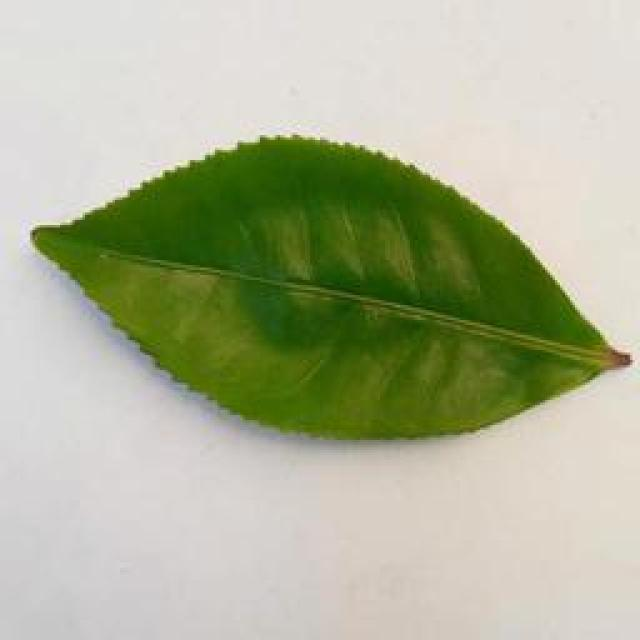Healthy: (27, 130, 633, 448)
